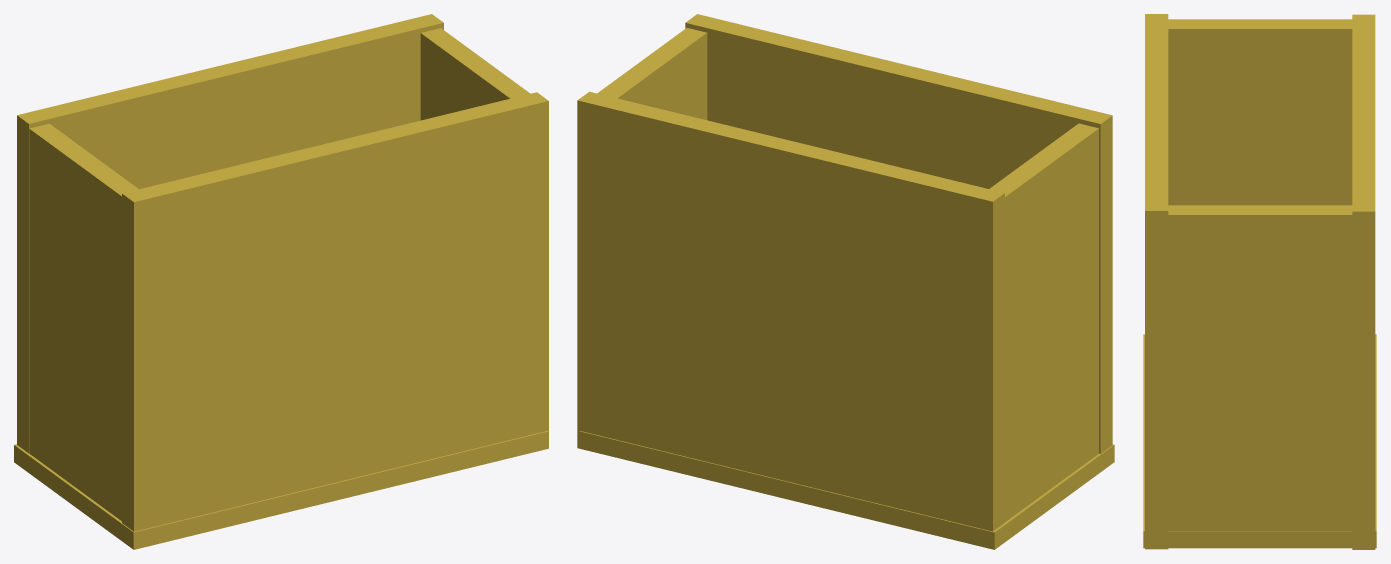
File: drop_box.dae
3 renders of one model, left to right at view 1: azimuth 30°, elevation 25°; view 2: azimuth 150°, elevation 25°; view 3: azimuth 270°, elevation 25°, orthographic. The views are drawn at different scales.
Parts seen in each view (by area): view 1: Cube_001, Cube_002, Cube_006, Cube, Cube_004; view 2: Cube_002, Cube_001, Cube_006, Cube, Cube_004; view 3: Cube_004, Cube_006, Cube_001, Cube_002, Cube.
Boxes of the visible parts, box(x1,y1,x2,y2) form: Cube_001: box(122, 92, 548, 531); Cube_002: box(17, 14, 443, 453); Cube_006: box(29, 123, 138, 520); Cube: box(14, 431, 548, 549); Cube_004: box(420, 28, 530, 120); Cube_002: box(577, 91, 1004, 531); Cube_001: box(685, 14, 1112, 453); Cube_006: box(989, 123, 1098, 521); Cube: box(579, 431, 1114, 549); Cube_004: box(597, 28, 707, 120); Cube_004: box(1168, 205, 1352, 530); Cube_006: box(1168, 19, 1352, 205); Cube_001: box(1145, 14, 1168, 549); Cube_002: box(1352, 14, 1375, 549); Cube: box(1143, 334, 1376, 548).
Bounding box in the file's own units: 2.01 × 1 × 1.6.
